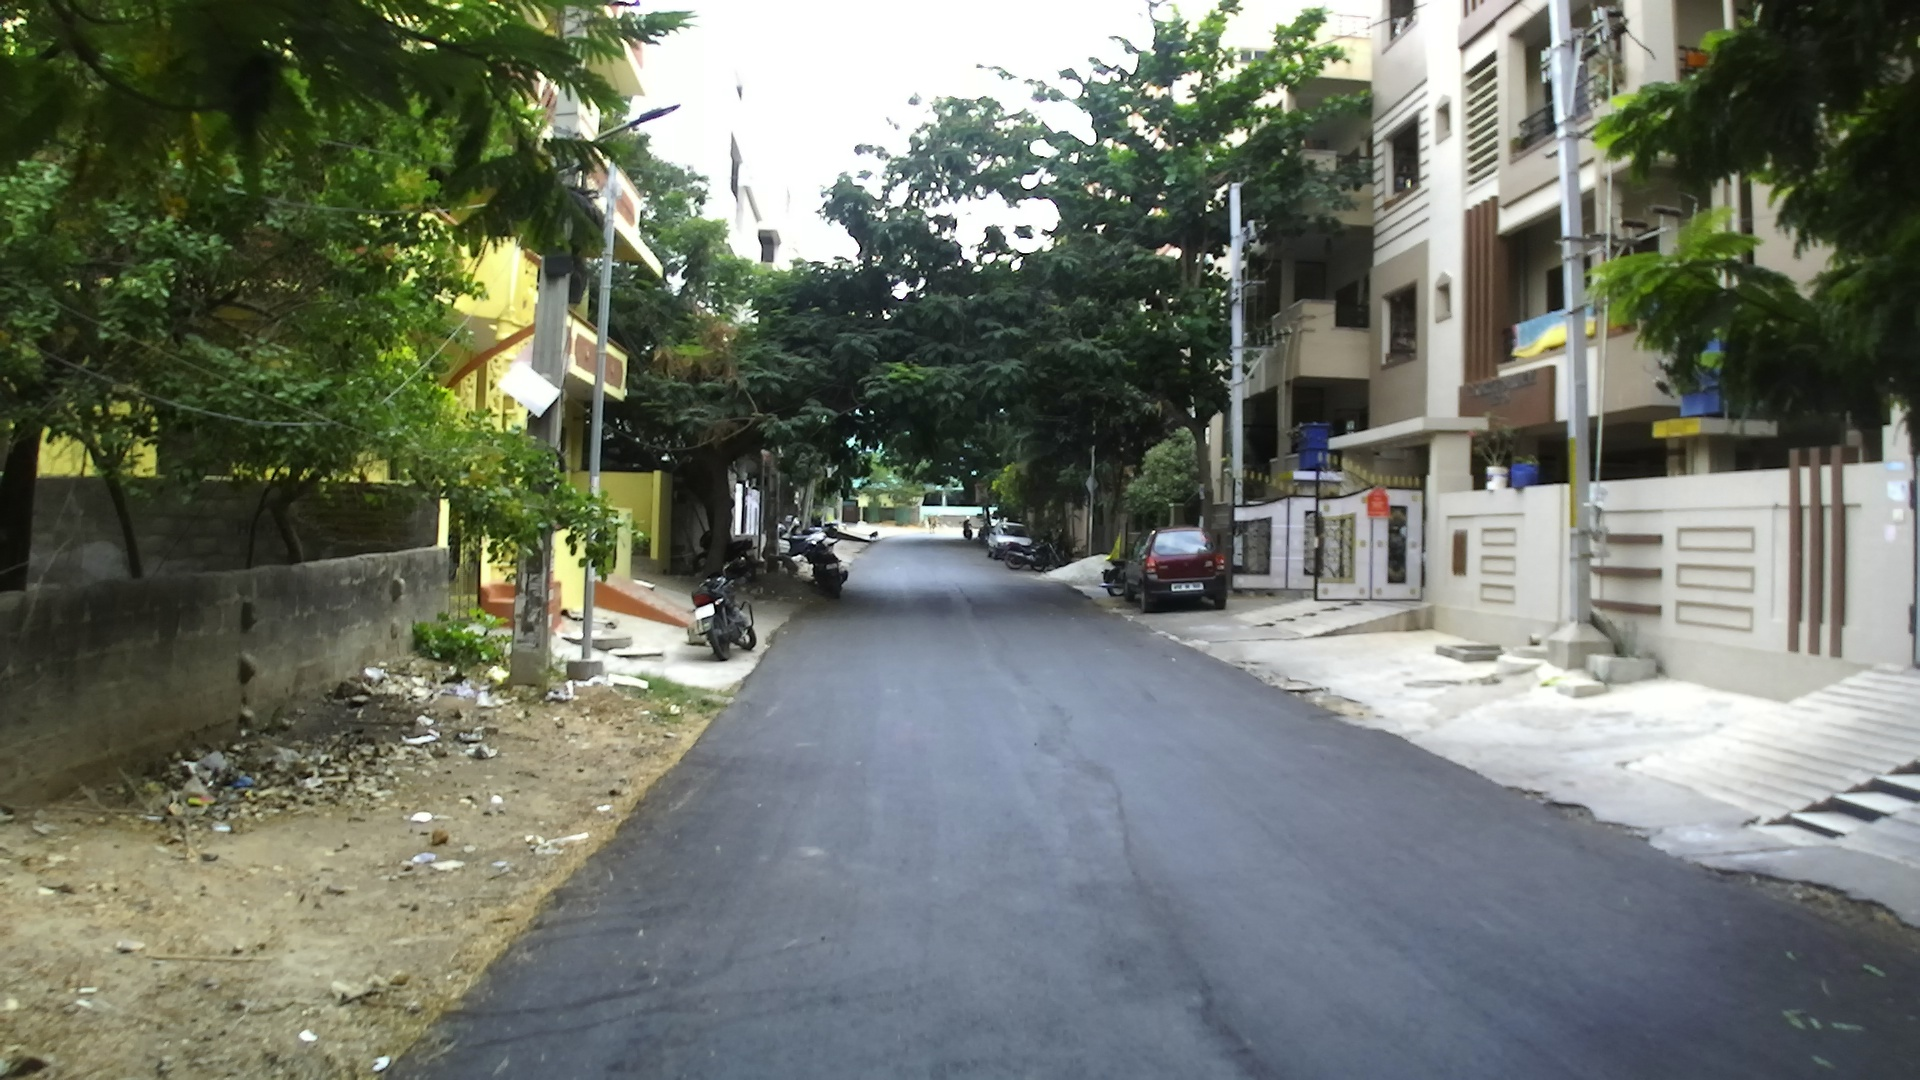vehicle: (1137, 529, 1230, 611), (783, 521, 864, 593), (982, 524, 1036, 567), (980, 518, 1034, 560)
